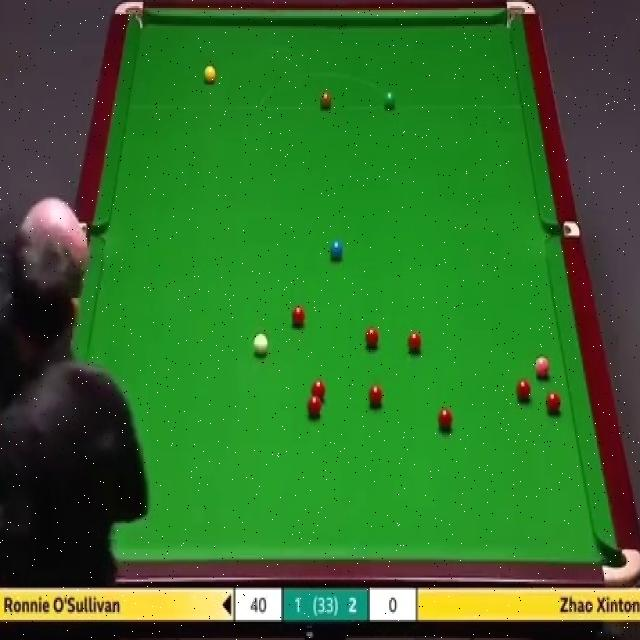blue-ball: (330, 237, 343, 263)
brown-ball: (319, 92, 333, 110)
green-ball: (382, 89, 398, 111)
pink-ball: (534, 357, 551, 377)
red-ball: (437, 408, 454, 436), (367, 384, 383, 409), (363, 327, 380, 350), (544, 392, 561, 414), (515, 378, 532, 399), (408, 330, 422, 355), (311, 378, 326, 401), (291, 305, 305, 326), (308, 394, 321, 416)
white-ball: (252, 332, 269, 358)
yellow-ball: (204, 66, 216, 85)
